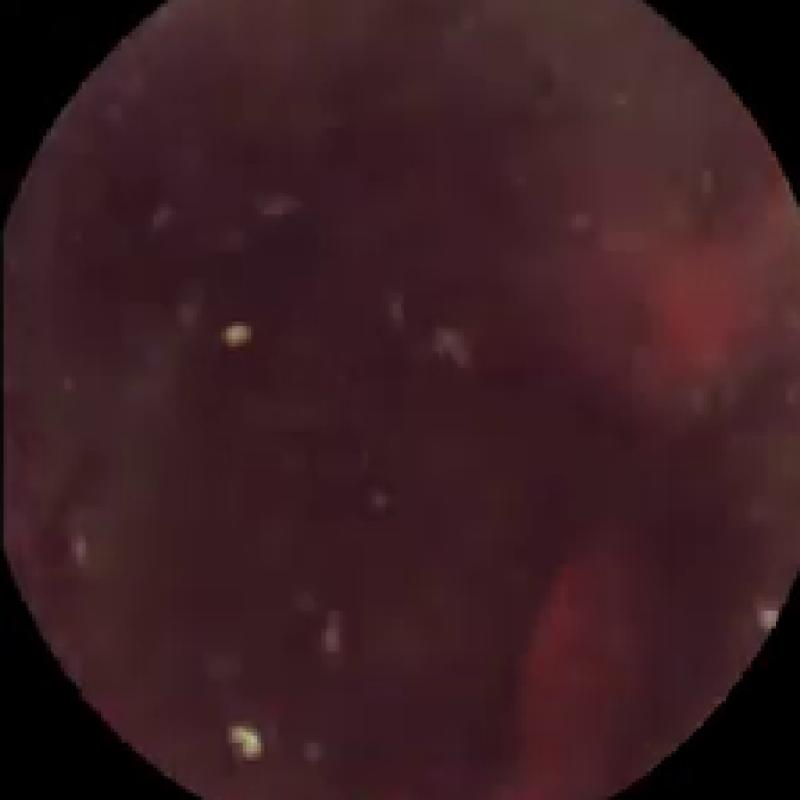bleeding: (400, 254, 800, 800)
